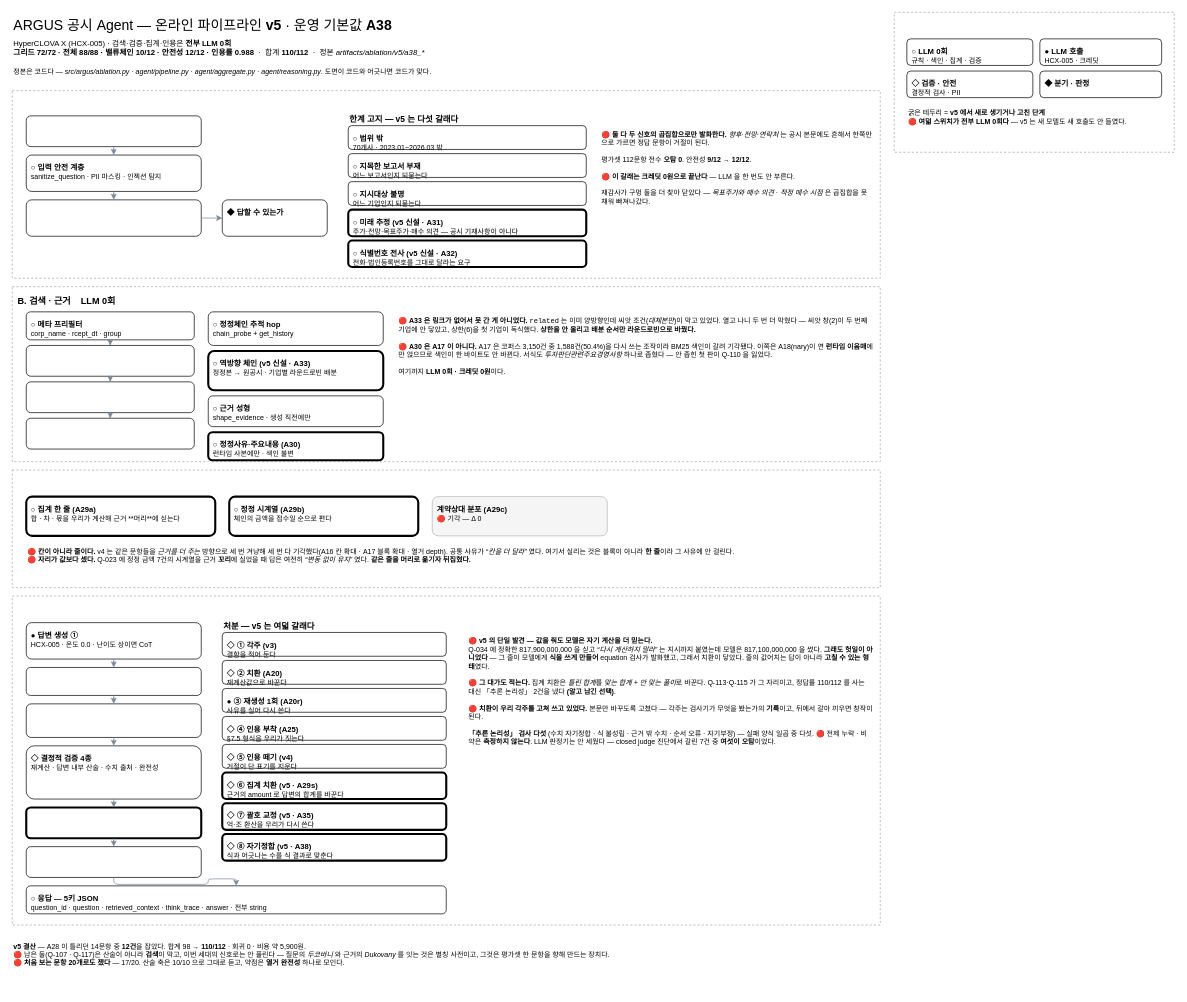
Image size: 1187x1002. Some labels were removed from this diagram. Here are the shapes that lost their labels. From the top down, the box of each, then its label:
(894, 12, 1174, 152): 범례 — 기호 = LLM 호출 여부
(26, 115, 201, 147): ○ 질의 수신 GET /answer · question_id · question
(12, 90, 880, 278): A. 입력 · 라우팅 LLM 0회
(26, 199, 201, 236): ○ 라우터 route() — 규칙만으로 가른다 · ◇ CoT 2022
(26, 345, 194, 376): ○ BM25 hop 사다리 narrow → relax → global
(26, 381, 194, 413): ○ 섹션 인덱스 hop 정기공시 목차 경로
(26, 418, 194, 449): ○ 계약상대 그래프 hop 발주처 2-hop fan-in/out
(12, 469, 880, 588): B′. 결정적 집계 LLM 0회 🔴 v5 신설
(26, 667, 201, 695): ◆ 근거 표기가 있는가 quick_check
(26, 703, 201, 737): ● critic ② judge — 인용이 없을 때만
(12, 595, 880, 925): C. 생성 · 검증 · 처분
(25, 806, 202, 839): ◇ 발주처 면제 (A36) 발주처는 공시자가 아니다 — missing_corp 오탐
(26, 846, 201, 877): ◇ 출력 안전 계층 mask_pii — 금액·접수번호는 보존
